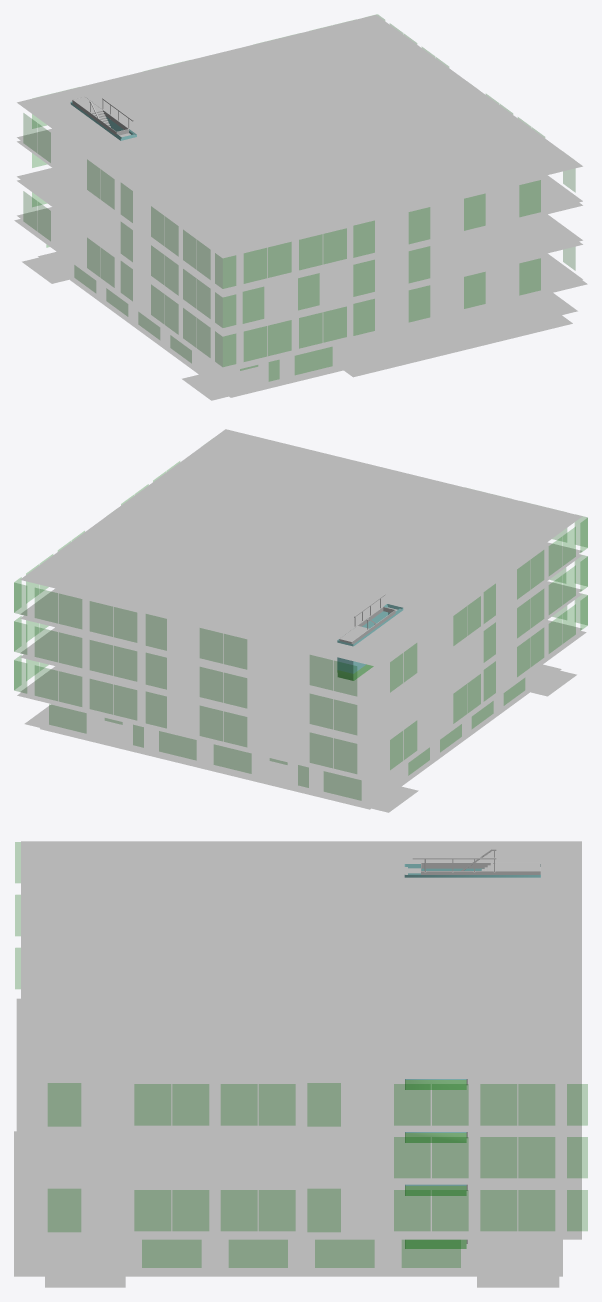
The model's file is SM_Building15_Interior.fbx.
The picture shows the model from 3 angles, top to bottom: view 1: azimuth 30°, elevation 25°; view 2: azimuth 150°, elevation 25°; view 3: azimuth 270°, elevation 25°; orthographic projection. The views are drawn at different scales.
Visible parts, largest first — view 1: SM_Building15_Interior; view 2: SM_Building15_Interior; view 3: SM_Building15_Interior.
Boxes of the visible parts, x1,y1,x2,y2 form: SM_Building15_Interior: [14, 14, 587, 400]; SM_Building15_Interior: [14, 429, 587, 812]; SM_Building15_Interior: [14, 841, 587, 1287].
Bounding box in the file's own units: 3978 × 1832 × 3980.
